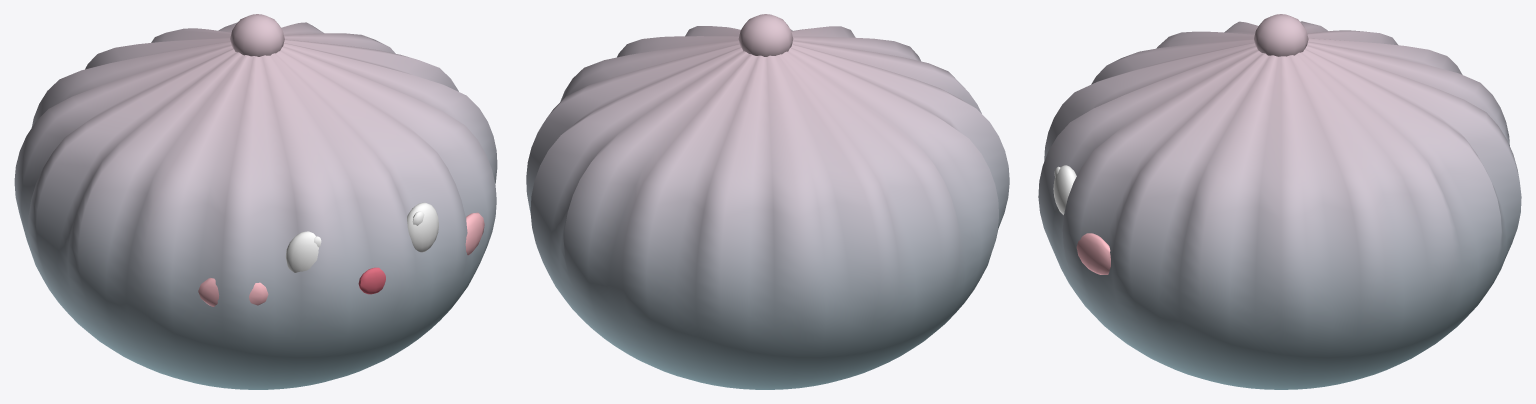
File: ENV_Dimsum_Dumpling_A.fbx
3 views of the same model, side by side, from view 1: azimuth 30°, elevation 25°; view 2: azimuth 150°, elevation 25°; view 3: azimuth 270°, elevation 25° (orthographic).
Parts seen in each view (by area): view 1: ENV_Dimsum_Dumpling_A; view 2: ENV_Dimsum_Dumpling_A; view 3: ENV_Dimsum_Dumpling_A.
Part boxes in pixels (x1,y1,x2,y2): ENV_Dimsum_Dumpling_A: (14,14,497,389); ENV_Dimsum_Dumpling_A: (526,14,1009,389); ENV_Dimsum_Dumpling_A: (1038,14,1521,389).
Size of the model in its own units: 1.66 by 1.28 by 1.66.
